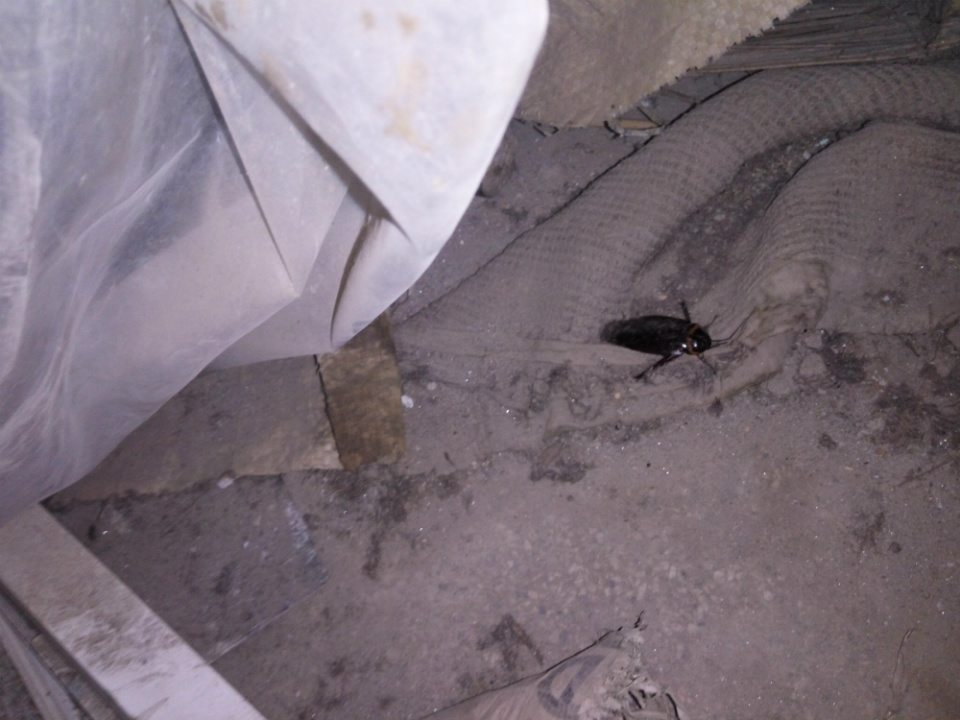cockroach: (554, 290, 745, 381)
